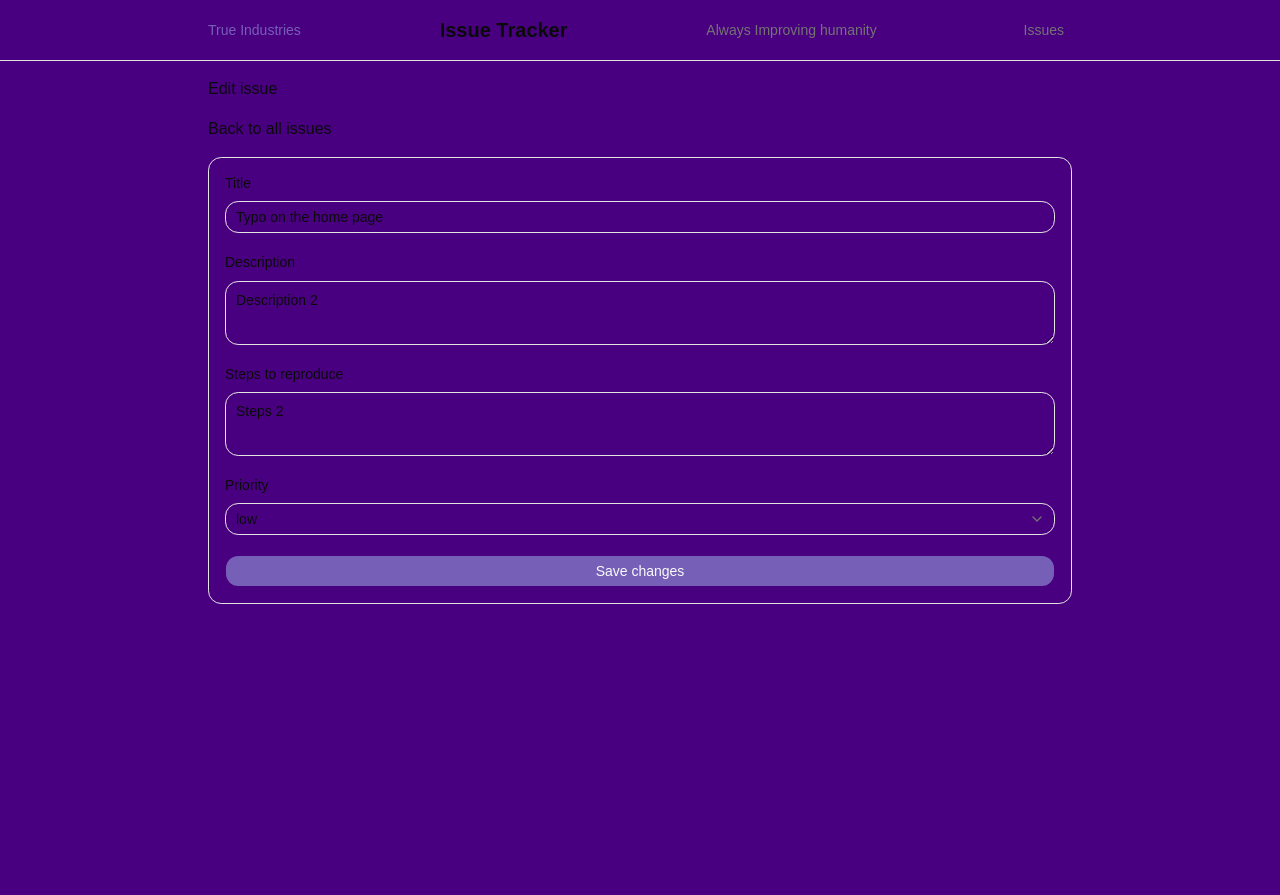
Edit screen › saves with PATCH /issues/:id, then returns to the list showing the change
Replace the text in the field labelled "Title" with "Typo on the about page" at [640, 217], box [225,201,1055,233]
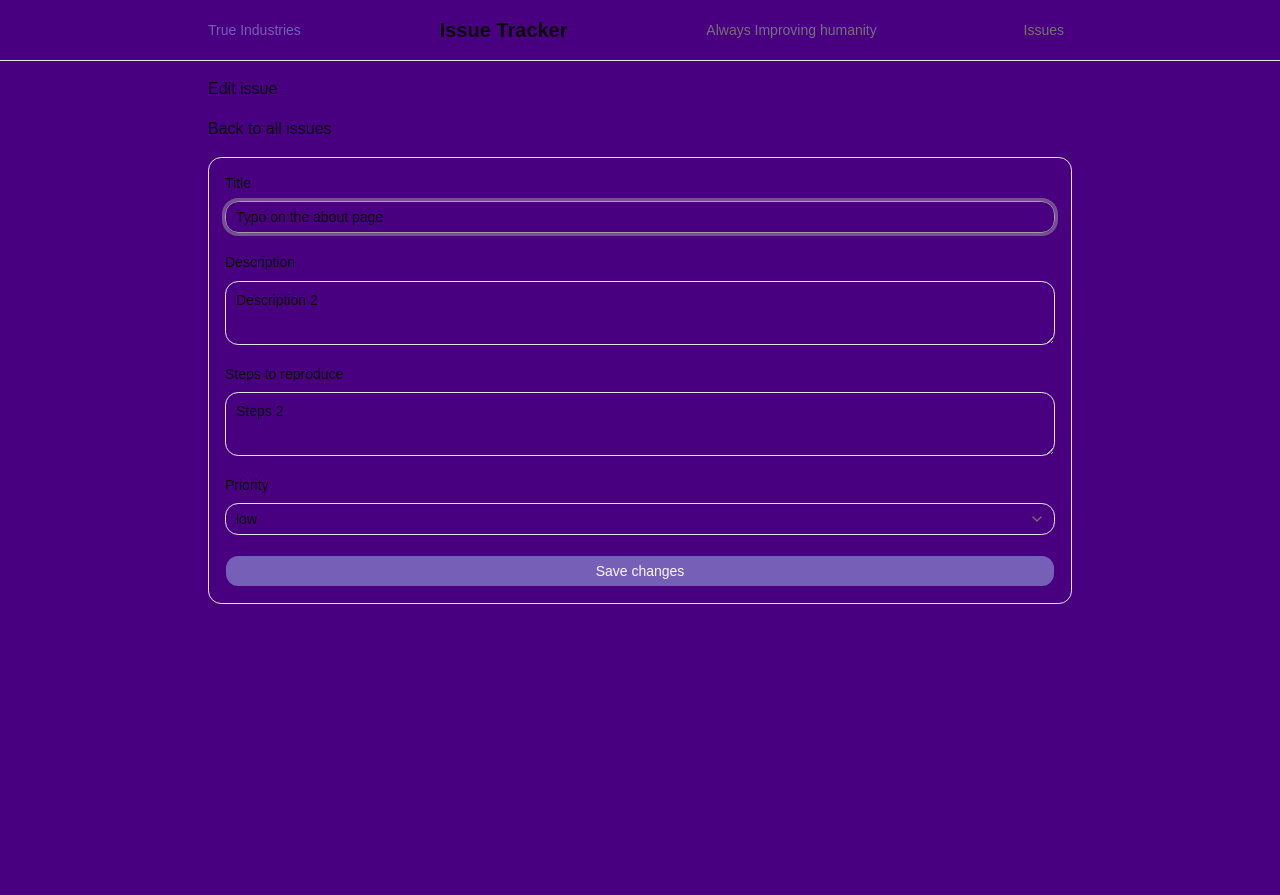
Select "high" in the dropdown labelled "Priority" at [640, 519], box [225,503,1055,535]
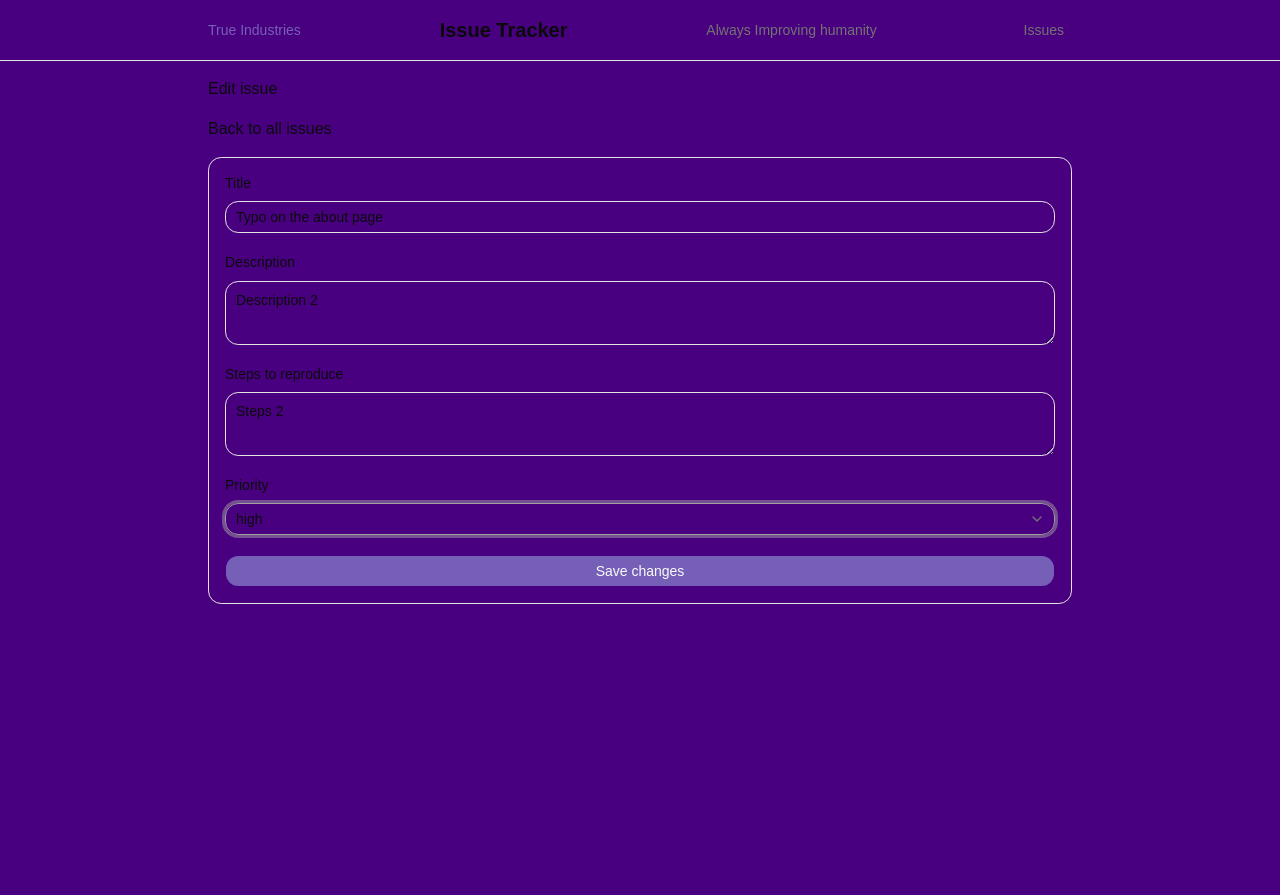
Click the button "Save changes".
click(640, 571)  # box [225,555,1055,587]
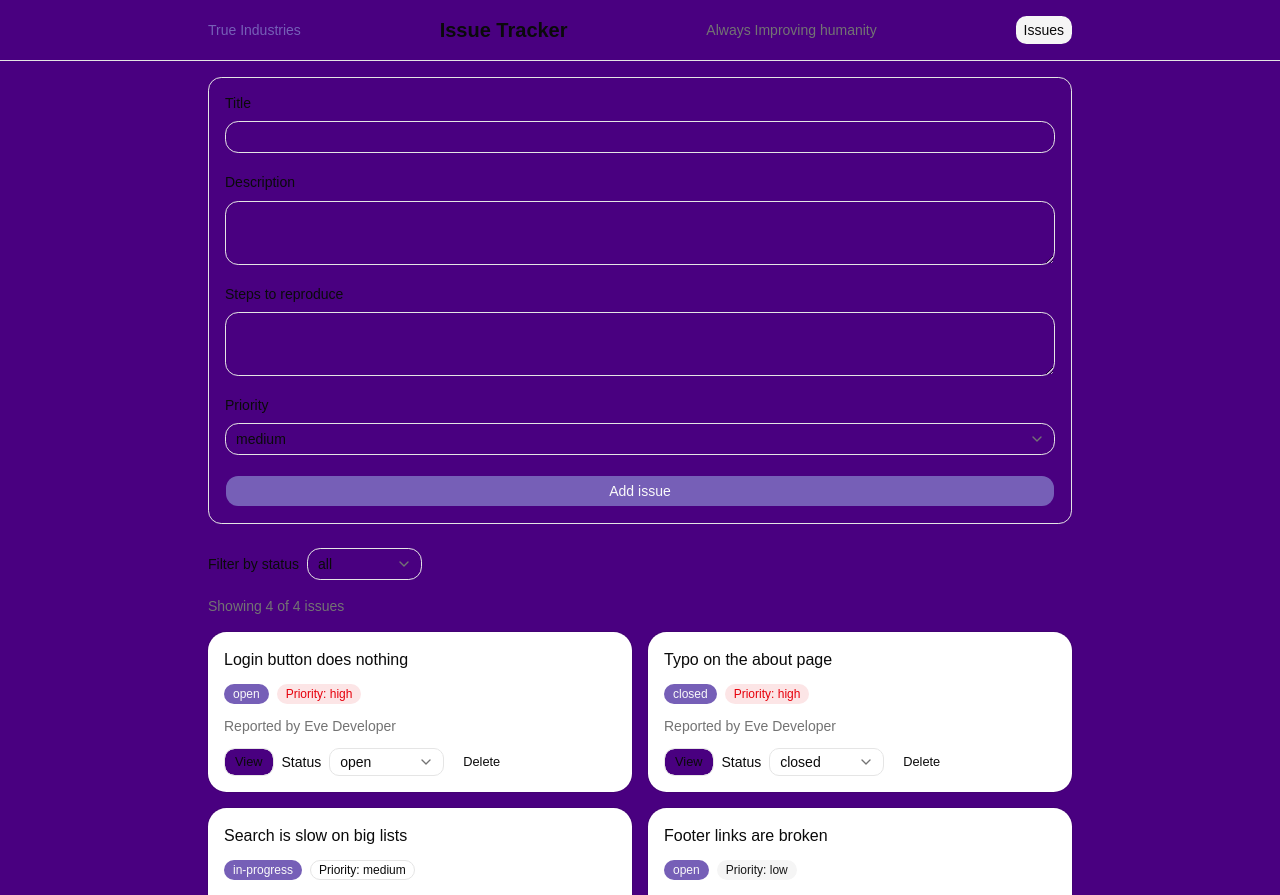
Expected: the text "Showing 4 of 4 issues" is shown, [208,598,344,614]
Expected: the heading "Typo on the about page" is shown, [664,651,832,668]
